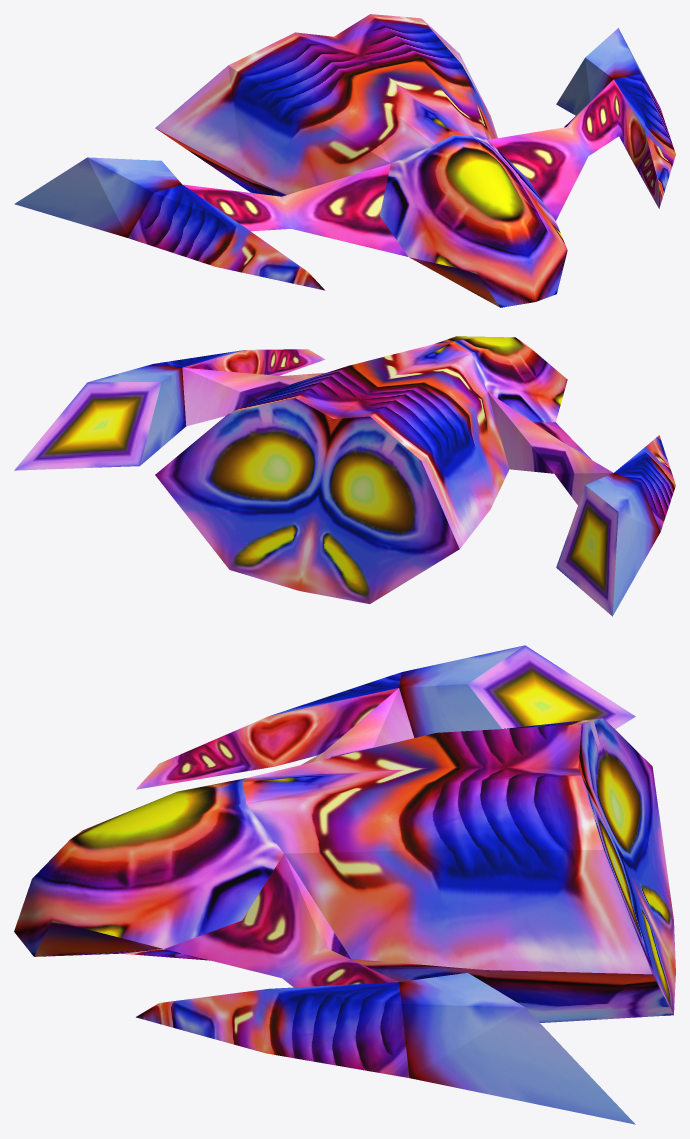
Rendered from ship-18.fbx.
The picture shows the model from 3 angles, top to bottom: view 1: azimuth 30°, elevation 25°; view 2: azimuth 150°, elevation 25°; view 3: azimuth 270°, elevation 25°; orthographic projection. The views are drawn at different scales.
Parts seen in each view (by area): view 1: ship-18; view 2: ship-18; view 3: ship-18.
Part boxes in pixels (x1=…): ship-18: x1=14, y1=14, x2=675, y2=307; ship-18: x1=14, y1=336, x2=675, y2=616; ship-18: x1=14, y1=645, x2=675, y2=1124.
Size of the model in its own units: 92.48 by 25.19 by 63.39.
